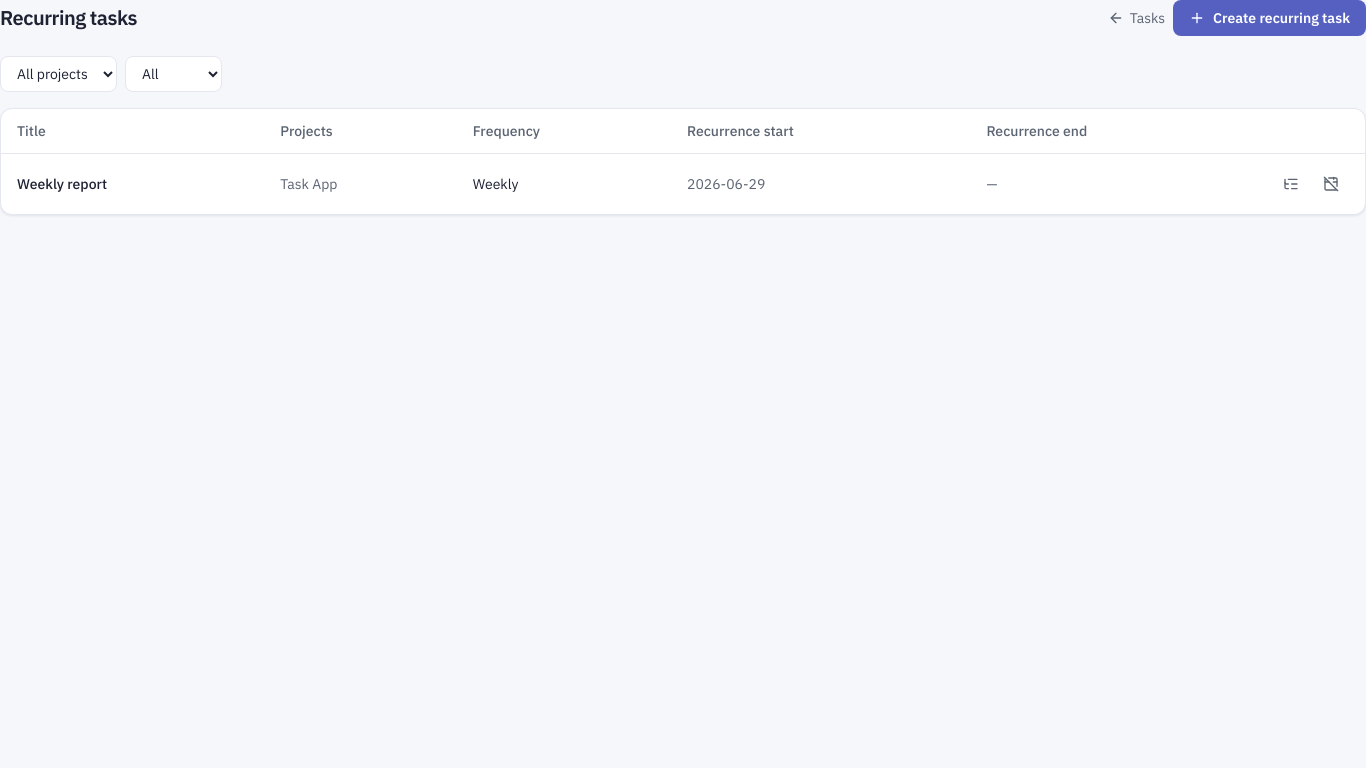
recurring tasks › creates a rule with recurrence and assignees
Expected: the text "Weekly report" is shown, x1=17 y1=175 x2=107 y2=193
Click the button "Create recurring task".
click(1270, 18)  # box x1=1173 y1=0 x2=1365 y2=36
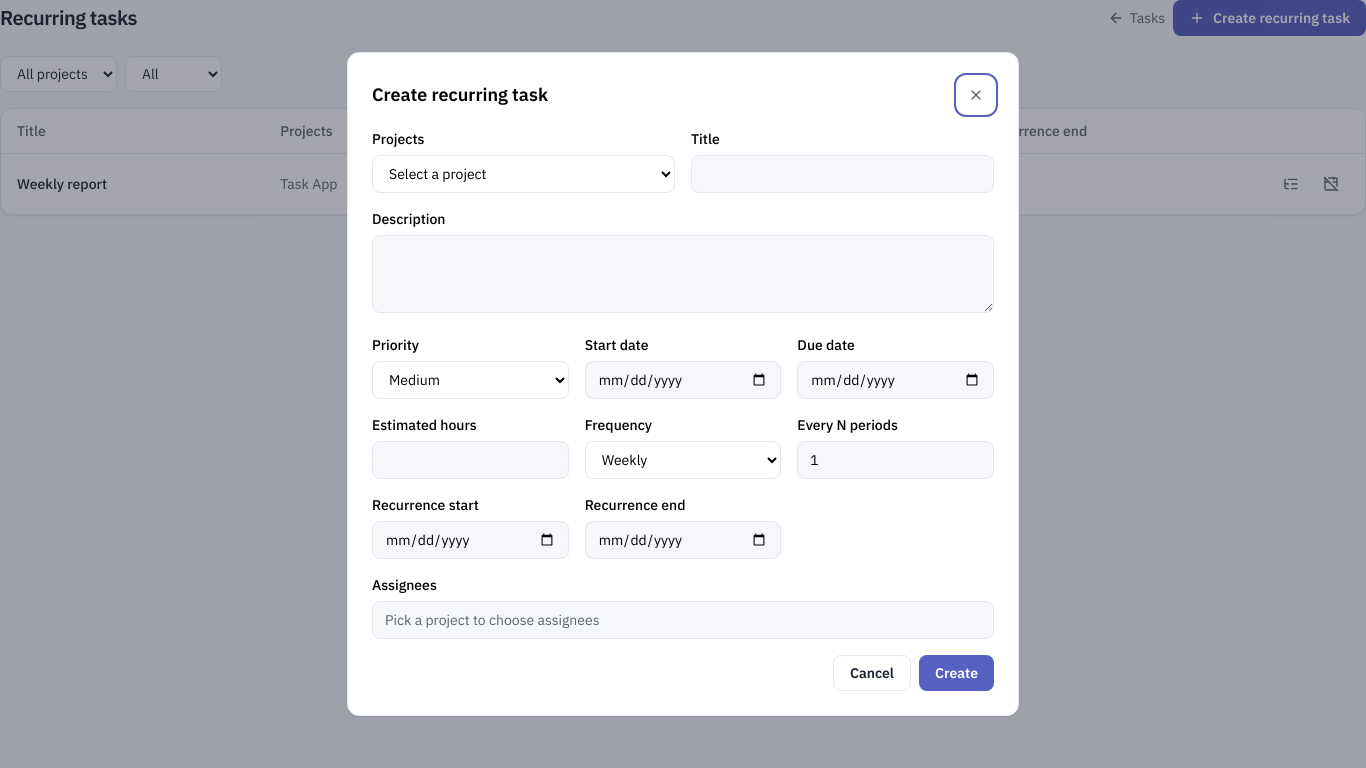
Select "Task App" in the dropdown labelled "Projects" at (524,174), box x1=372 y1=155 x2=675 y2=193
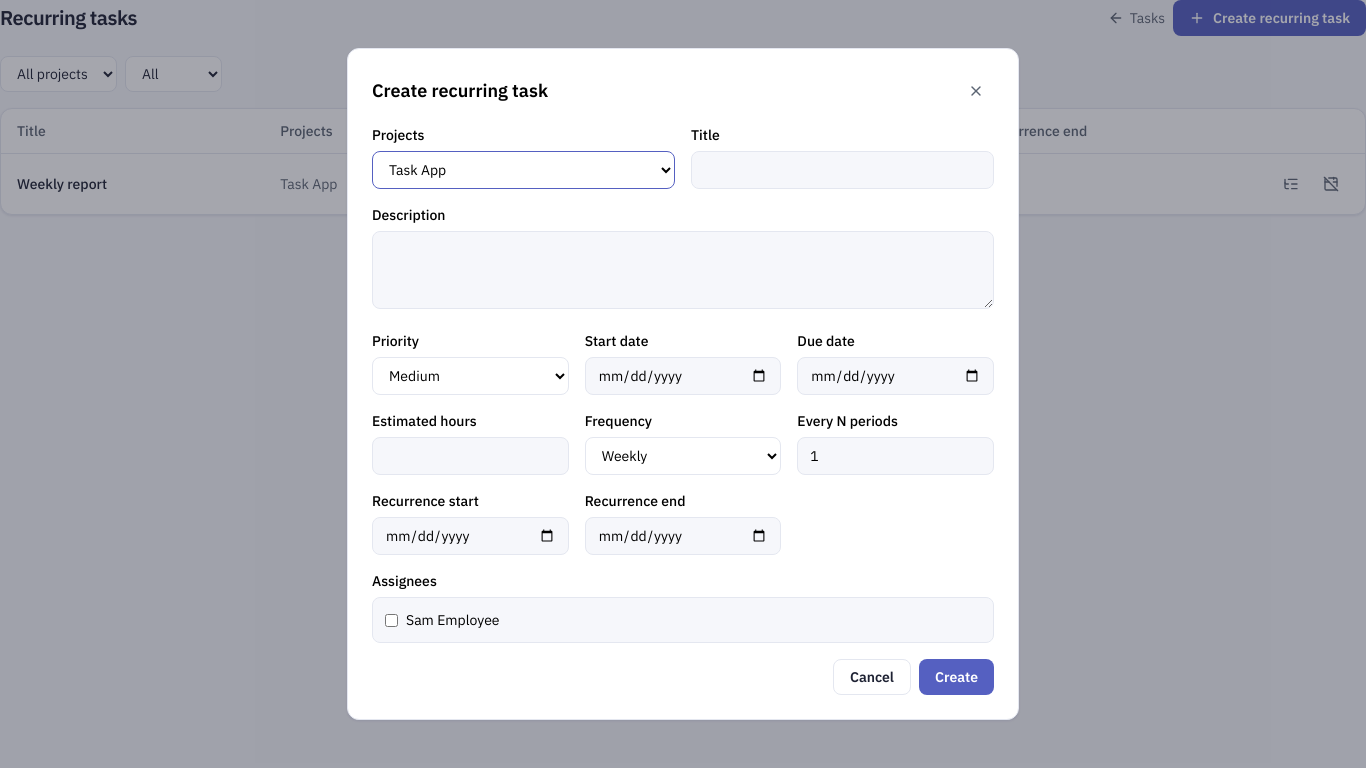
Type "Standup notes" into the field labelled "Title".
click(842, 170); type("Standup notes")  # box x1=691 y1=151 x2=994 y2=189
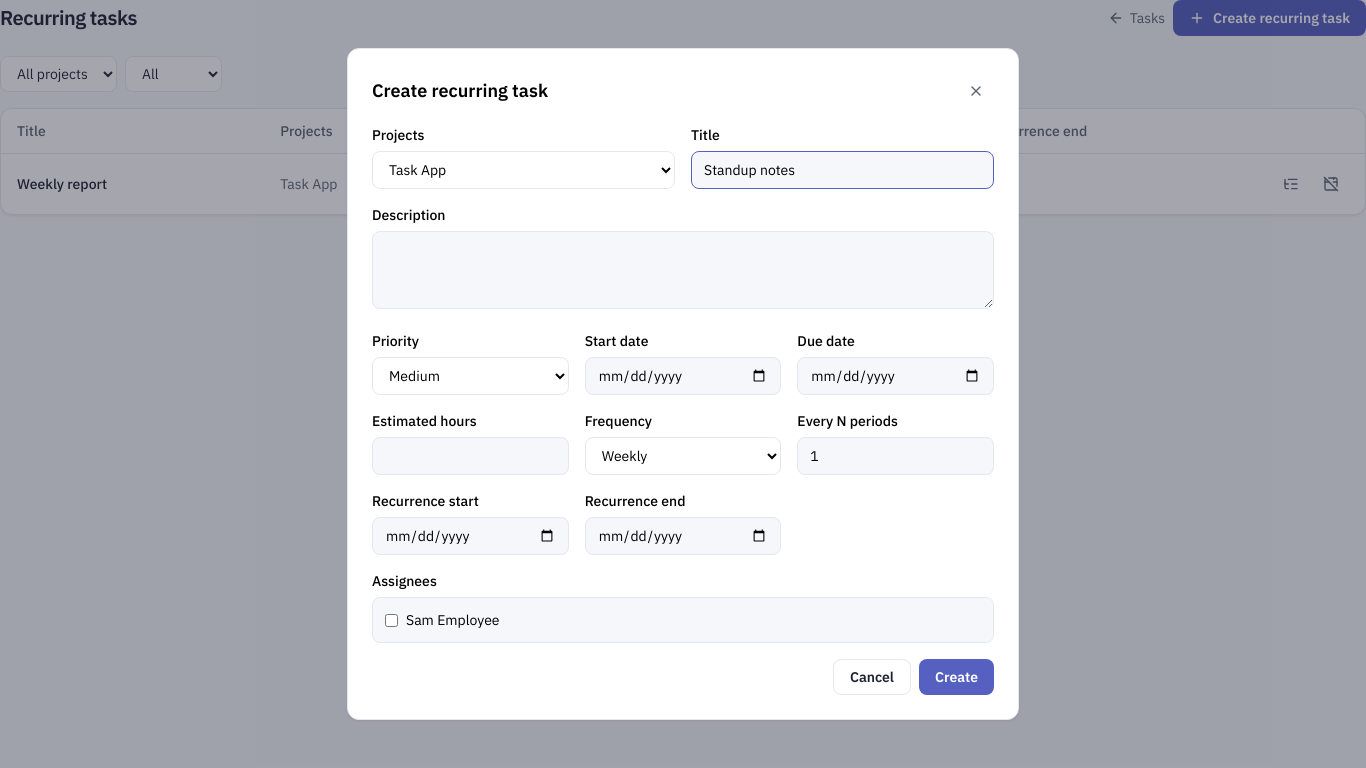
Select "Daily" in the dropdown labelled "Frequency" at (683,456), box x1=585 y1=437 x2=781 y2=475
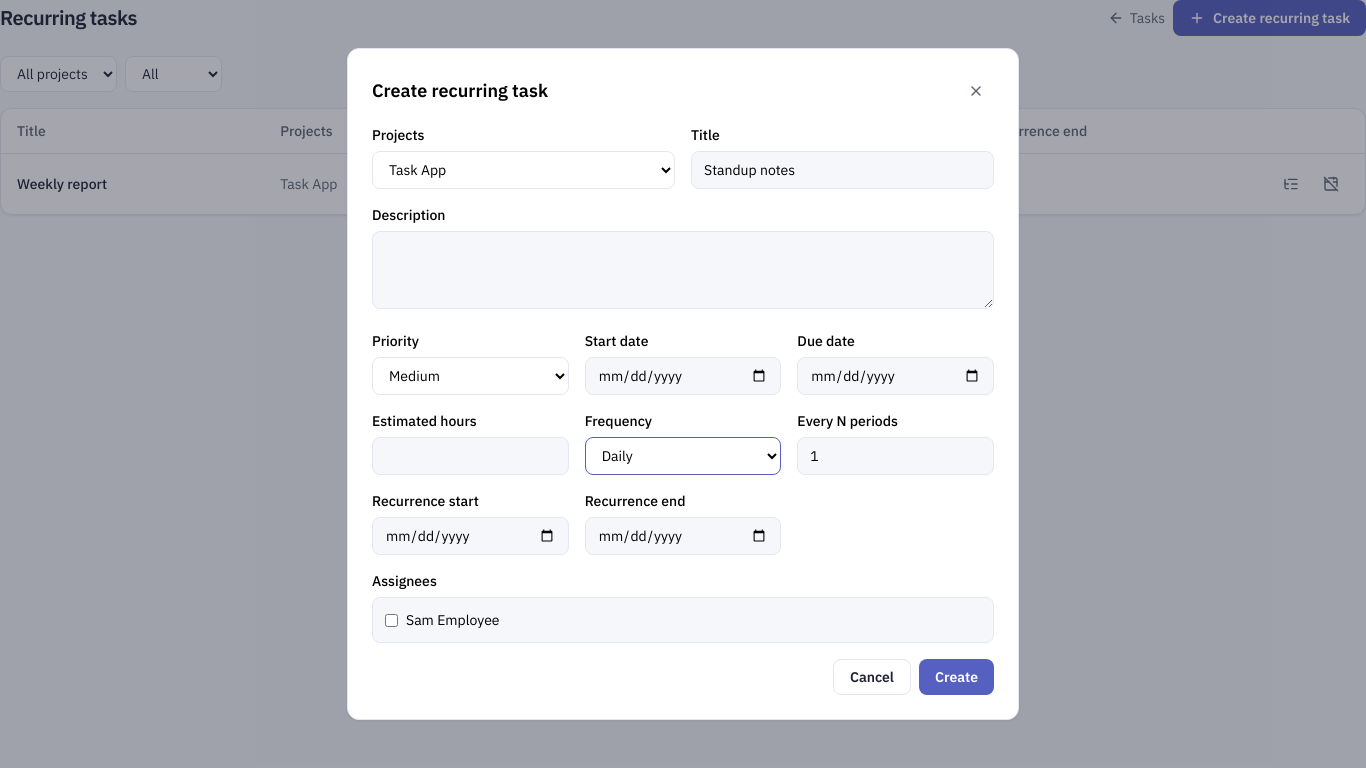
Type "2026-09-01" into the date field labelled "Recurrence start".
click(470, 536); type("2026-09-01")  # box x1=372 y1=517 x2=569 y2=555
Click the checkbox labelled "Assignees Sam Employee".
click(392, 620)  # box x1=385 y1=614 x2=398 y2=626
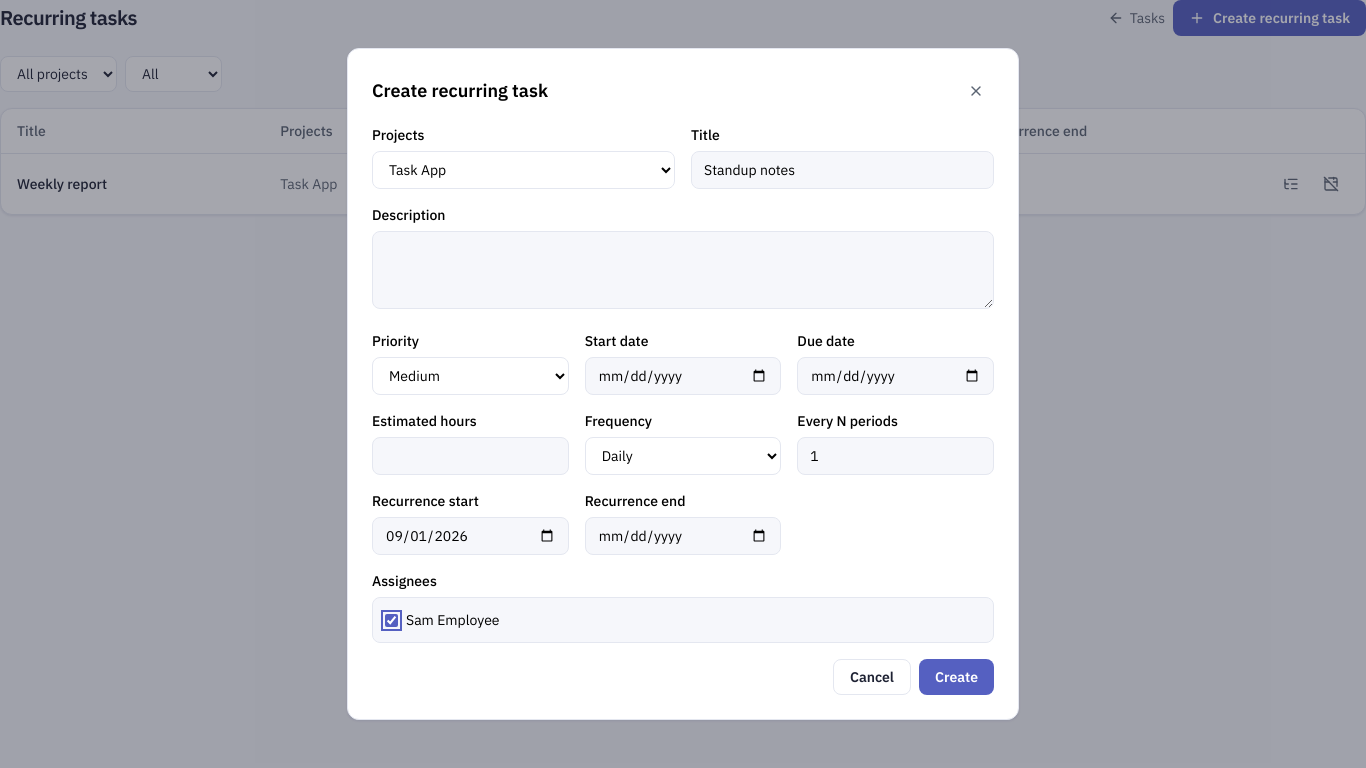
Click the button "Create".
click(956, 677)  # box x1=919 y1=659 x2=994 y2=695
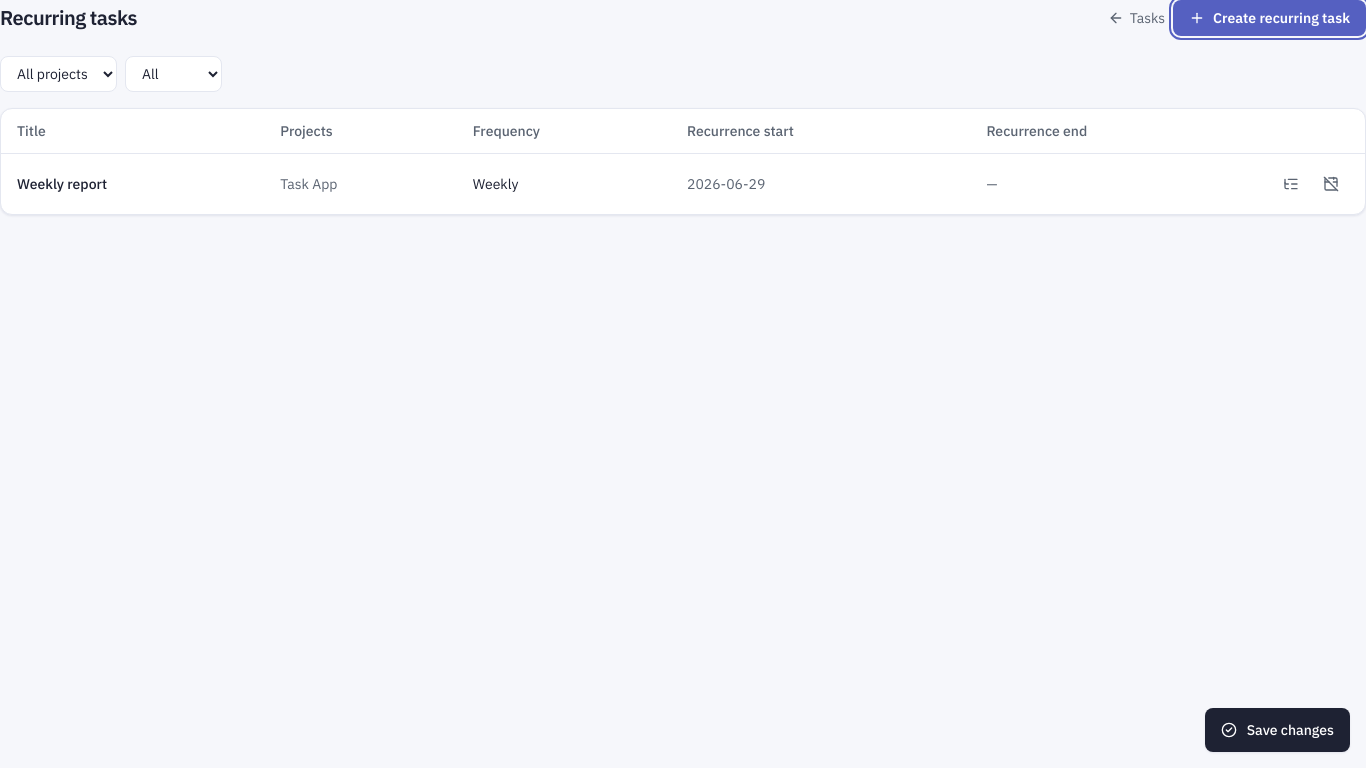
Now the text "Save changes" is shown, box x1=1205 y1=708 x2=1350 y2=752
